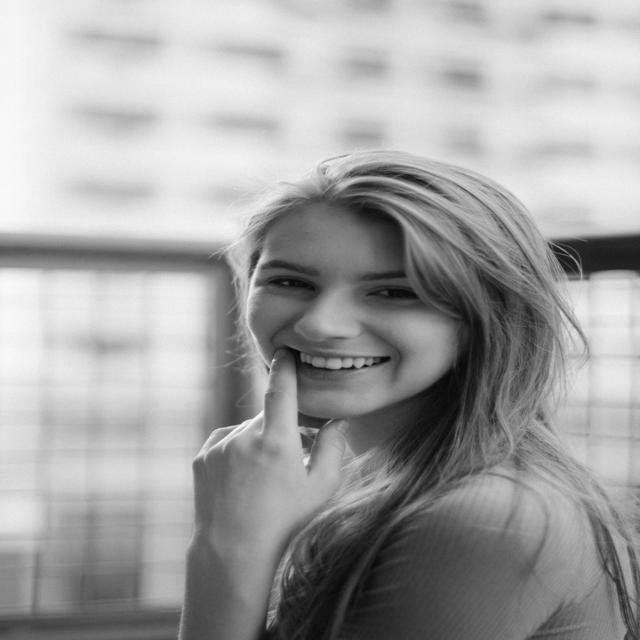Happiness: (245, 207, 468, 421)
